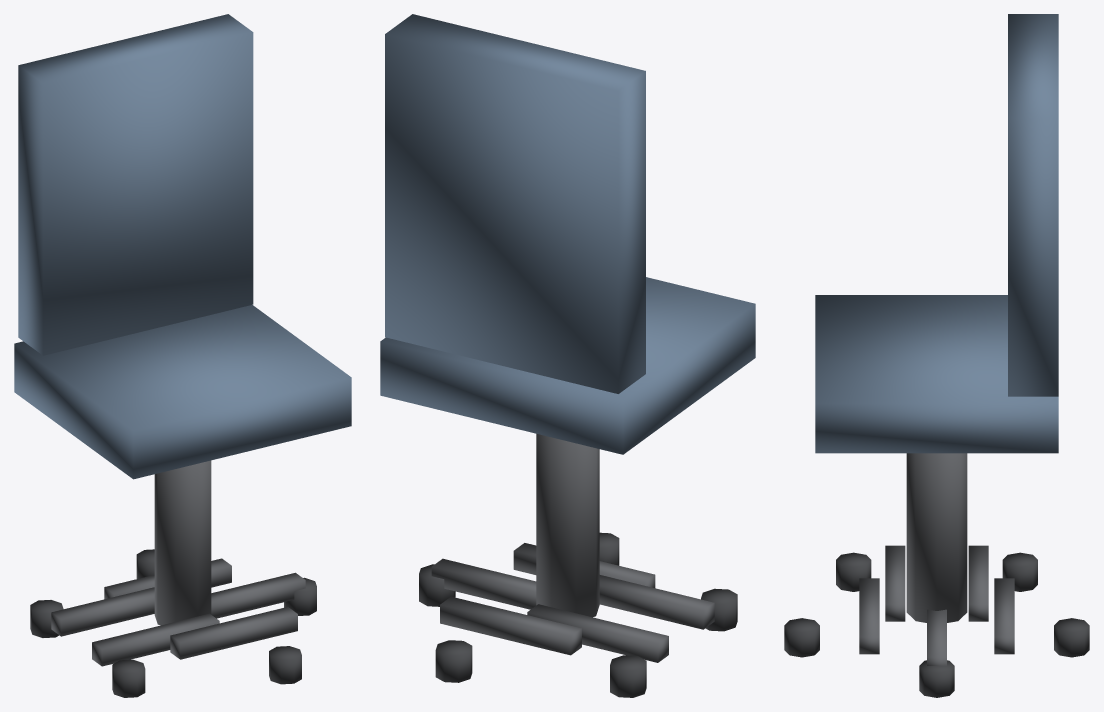
The model's file is office_task_chair__compact.glb.
The picture shows the model from 3 angles, left to right: view 1: azimuth 30°, elevation 25°; view 2: azimuth 150°, elevation 25°; view 3: azimuth 270°, elevation 25°; orthographic projection. The views are drawn at different scales.
Parts seen in each view (by area): view 1: world; view 2: world; view 3: world.
Boxes of the visible parts, left/top/right/bottom form: world: left=14, top=14, right=351, bottom=697; world: left=380, top=14, right=755, bottom=697; world: left=784, top=14, right=1089, bottom=697.
Size of the model in its own units: 0.4843 by 1.06 by 0.5182.
